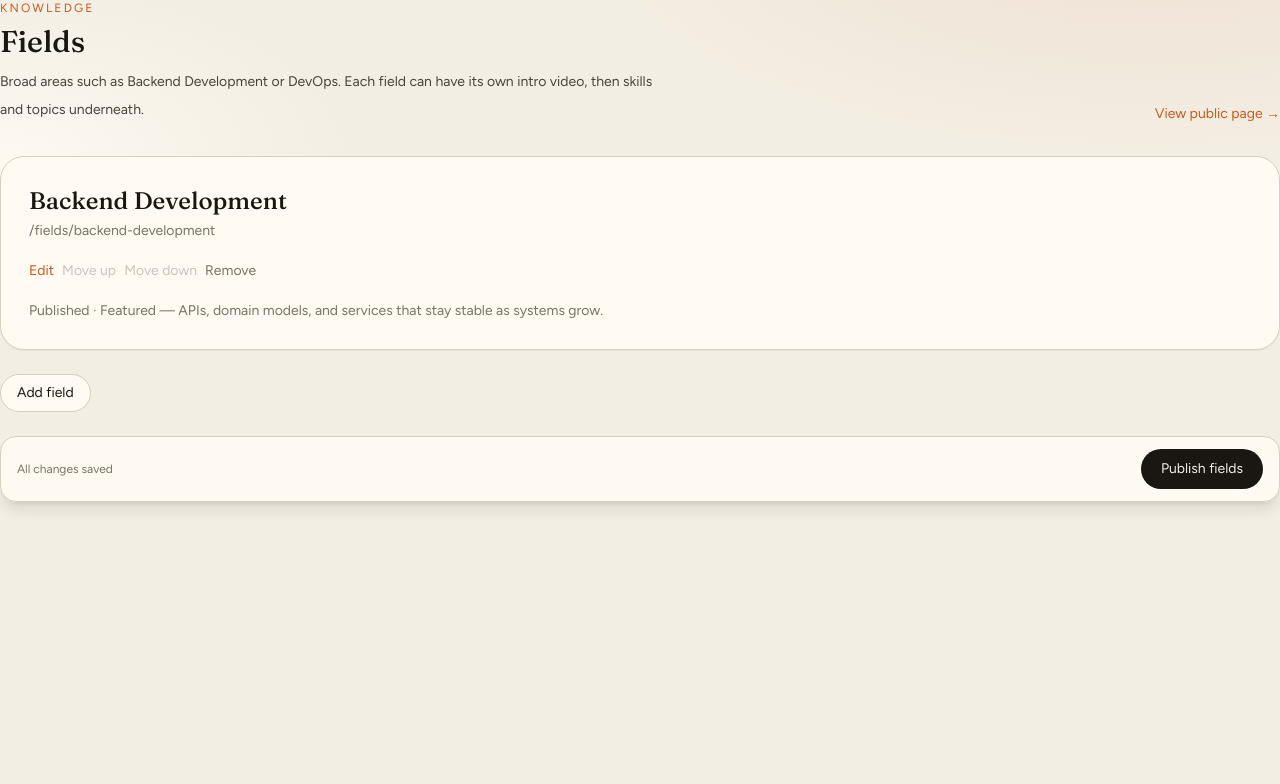
Test case: AdminFieldsPage › blocks publish when the summary is too short
The image size is (1280, 784).
Click the button "Edit". click: click(42, 271)
box: [29,261,54,281]
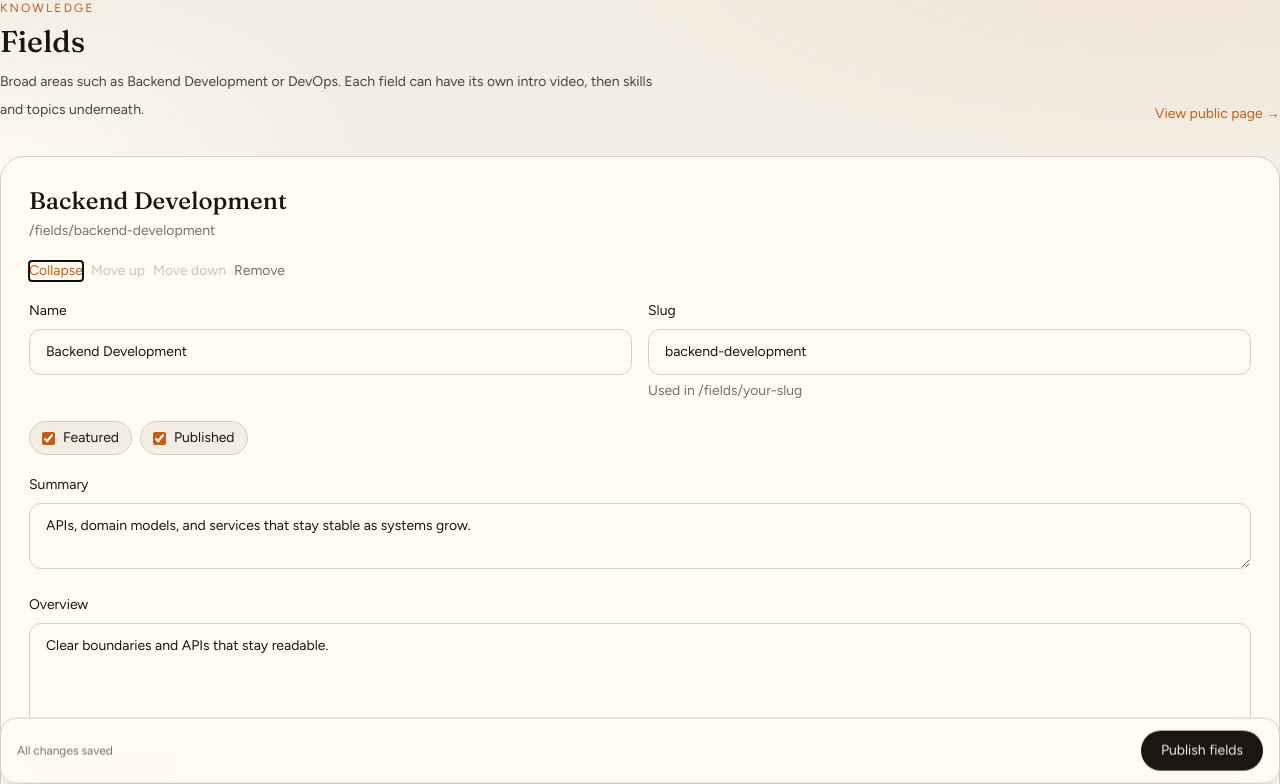
Now the text box labelled "Summary" is shown
Replace the text in the text box labelled "Summary" with "Short". click: (640, 536)
box: [29,503,1251,569]
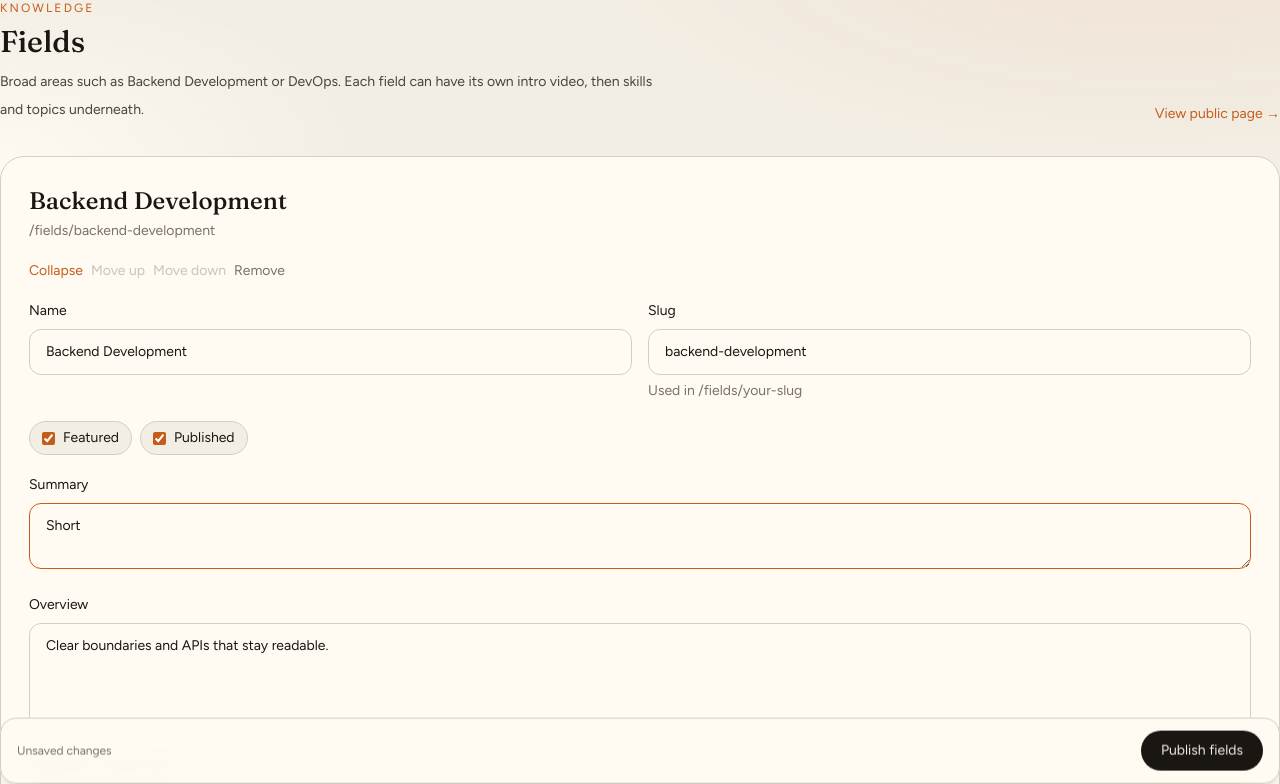
Click the button "Publish fields". click: click(1202, 751)
box: [1141,731,1263,771]
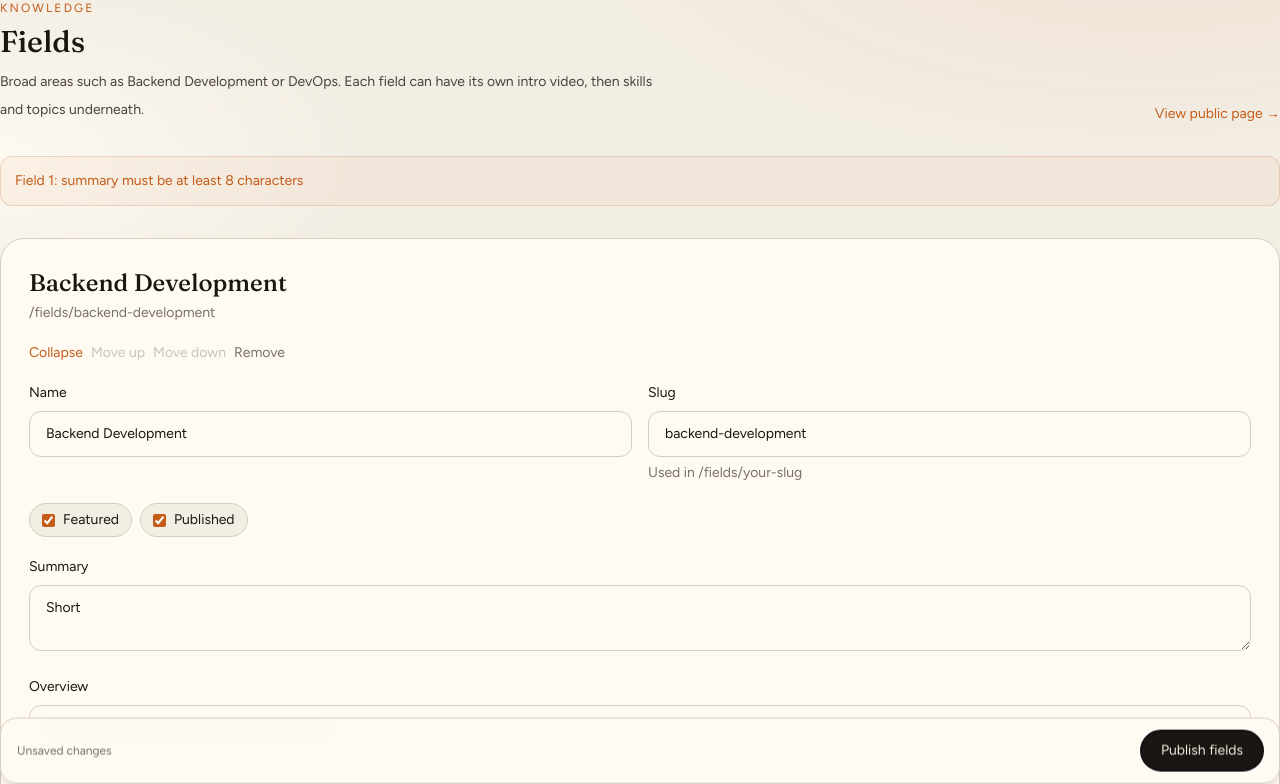
Now the message shows "summary must be at least 8 characters", box [15,172,303,189]
